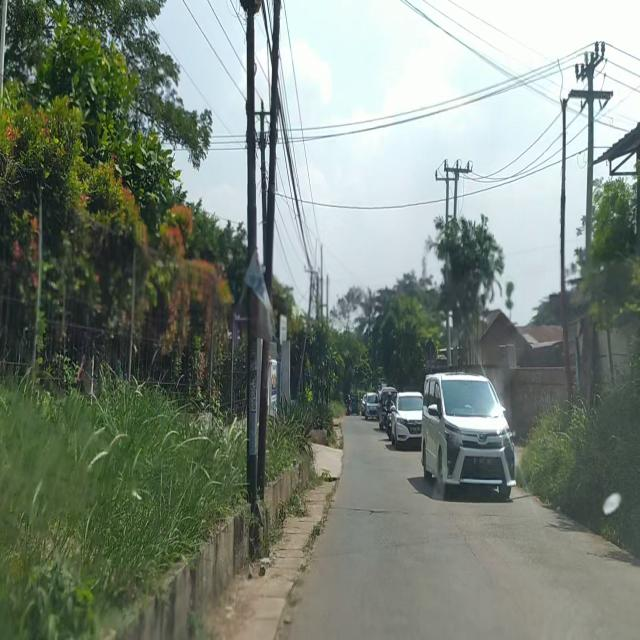Sewer Cover: (339, 505, 405, 517)
